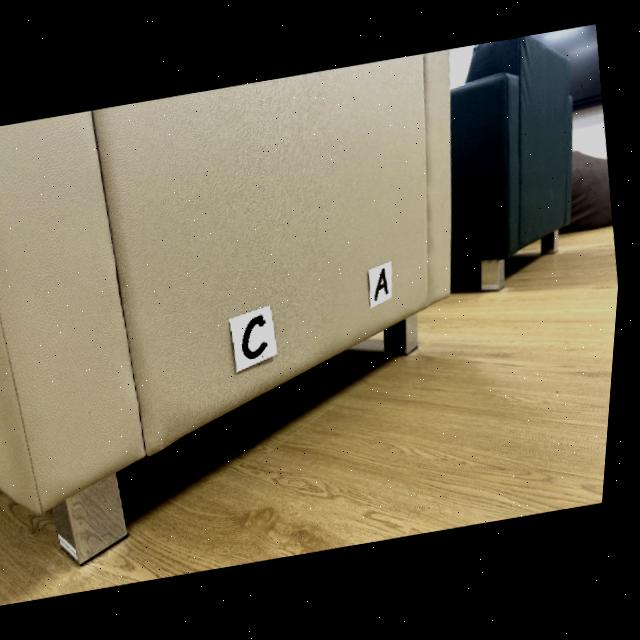A: (380, 270, 393, 301)
C: (248, 316, 272, 360)
